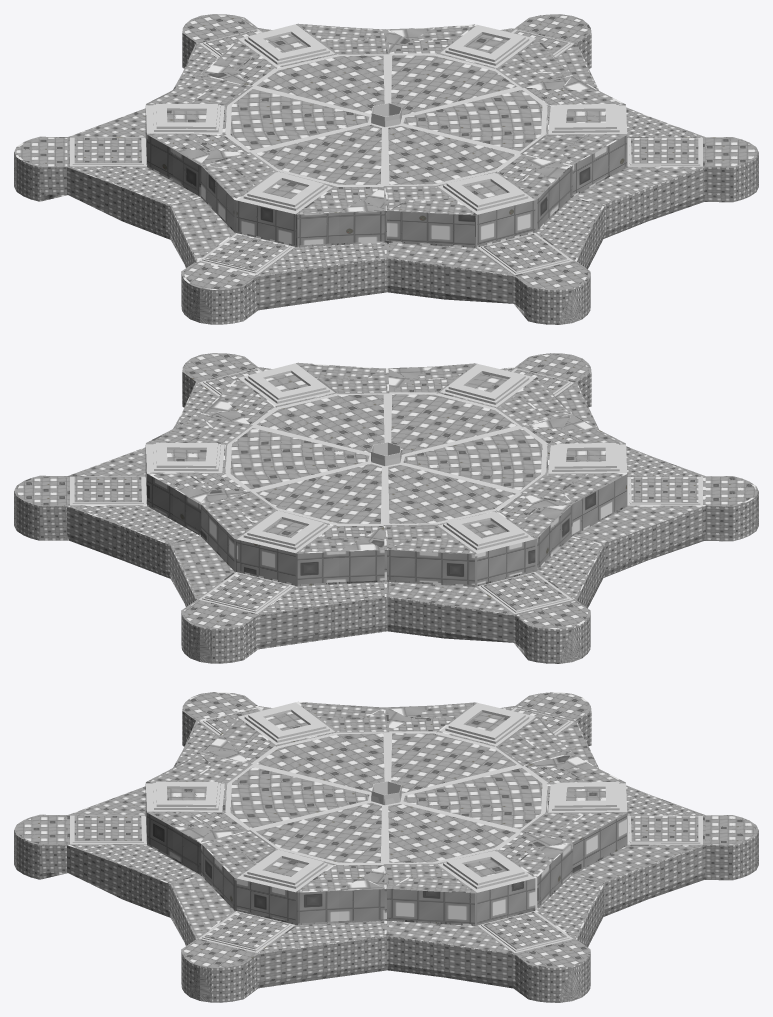
Rendered from radial - Copy (6).fbx.
3 views of the same model, one above another, from view 1: azimuth 30°, elevation 25°; view 2: azimuth 150°, elevation 25°; view 3: azimuth 270°, elevation 25° (orthographic).
Visible parts, largest first — view 1: Cylinder; view 2: Cylinder; view 3: Cylinder, Cylinder.013.
Boxes of the visible parts, box(x1,y1,x2,y2) form: Cylinder: box(14, 14, 758, 324); Cylinder: box(14, 353, 758, 663); Cylinder: box(14, 692, 758, 1002); Cylinder.013: box(371, 781, 401, 804).
Size of the model in its own units: 930 by 120 by 1060.
